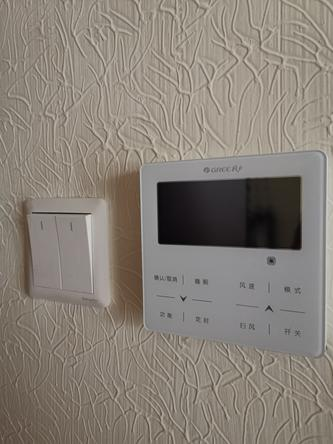switch: (52, 208, 95, 296), (24, 208, 67, 295)
